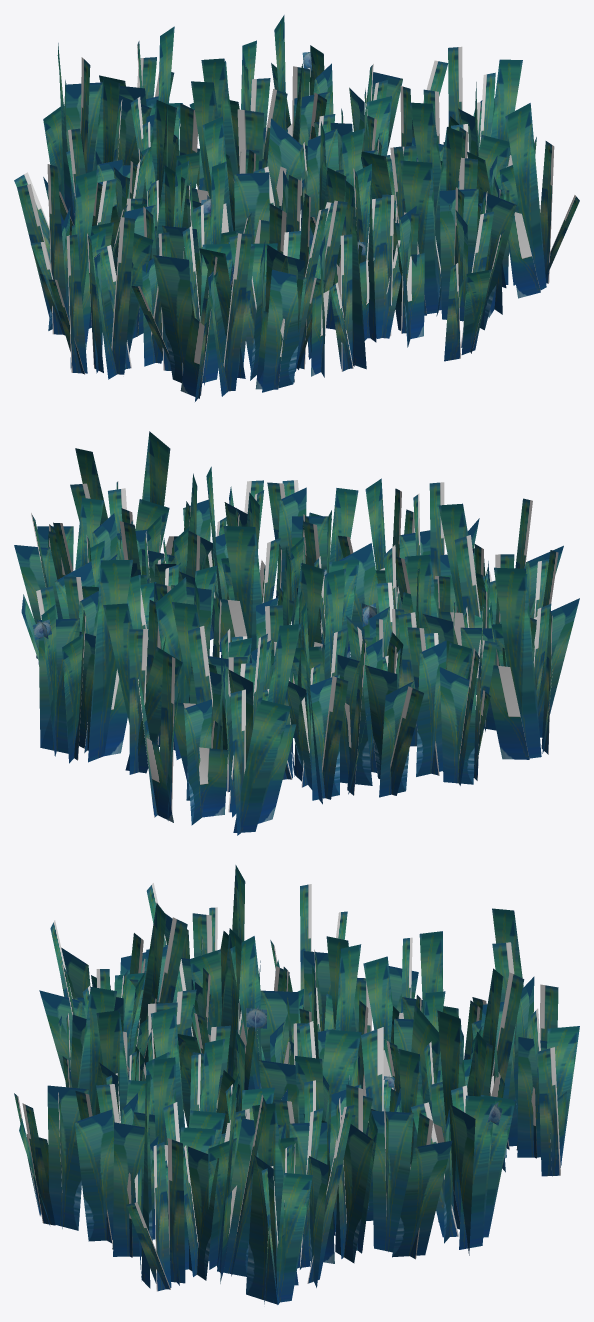
File: Yland2_zb_18 Yland2.FBX
The picture shows the model from 3 angles, top to bottom: view 1: azimuth 30°, elevation 25°; view 2: azimuth 150°, elevation 25°; view 3: azimuth 270°, elevation 25°; orthographic projection. The views are drawn at different scales.
Visible parts, largest first — view 1: Yland2_zb_18 Yland2; view 2: Yland2_zb_18 Yland2; view 3: Yland2_zb_18 Yland2.
Boxes of the visible parts, x1,y1,x2,y2 form: Yland2_zb_18 Yland2: (14,15,579,401); Yland2_zb_18 Yland2: (14,431,579,835); Yland2_zb_18 Yland2: (14,865,579,1304).
Bounding box in the file's own units: 29.46 × 11.31 × 27.2.
